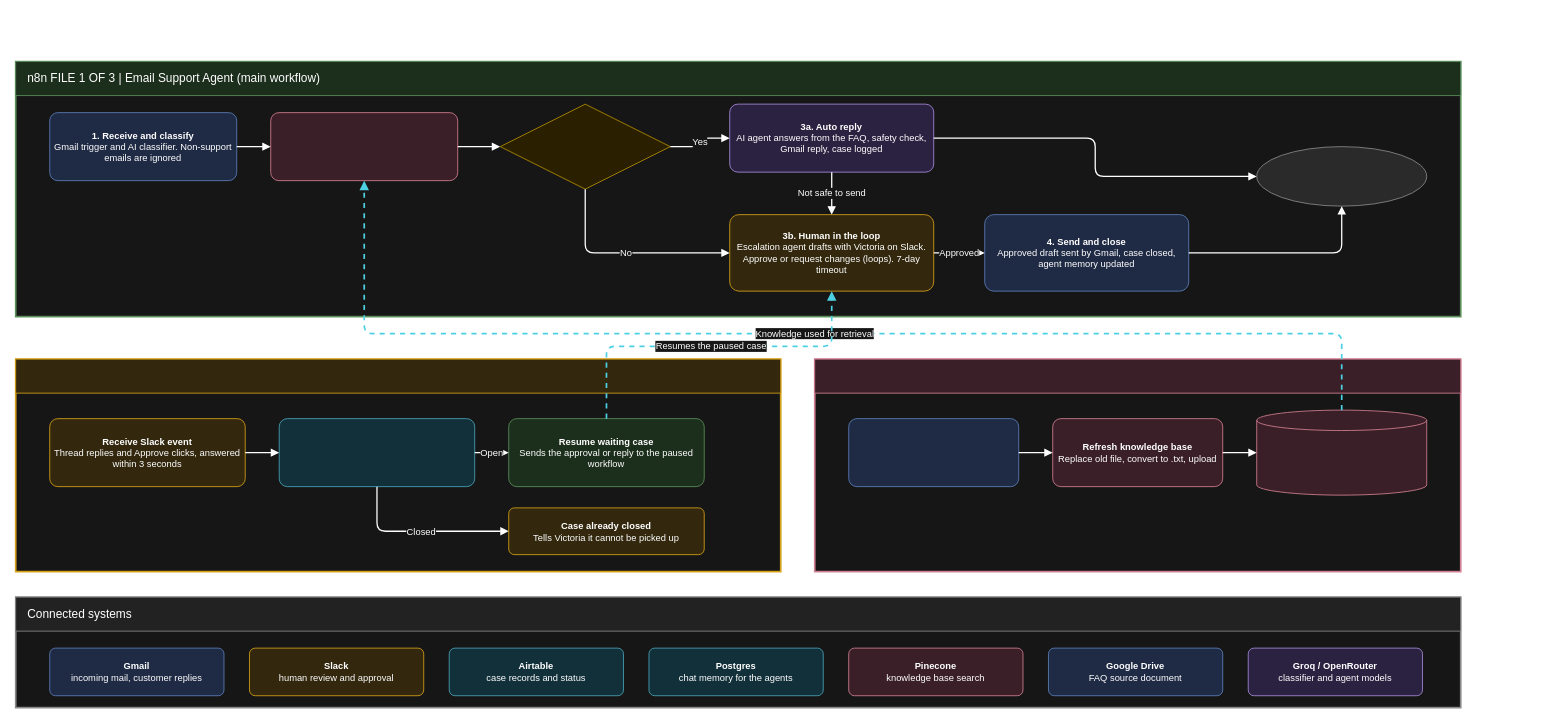
This 1560x723 diagram has some shape labels left out. The centre of each missing label's shape, as x and y in pixels:
"2. Retrieve knowledge Pinecone returns the most relevant FAQ snippets" belongs at (364,146).
"Customer receives reply" belongs at (1341,176).
"Enough knowledge?" belongs at (584,146).
"FAQ document Google Drive. Run manually when it changes" belongs at (933,452).
"Match to open case Airtable lookup by Slack thread and channel" belongs at (376,452).
"n8n FILE 2 OF 3 | Slack Interaction Handler" belongs at (398,375).
"n8n FILE 3 OF 3 | Knowledge Base Ingestion" belongs at (1137,375).
"Pinecone knowledge base FAQ chunks and embeddings" belongs at (1341,452).
